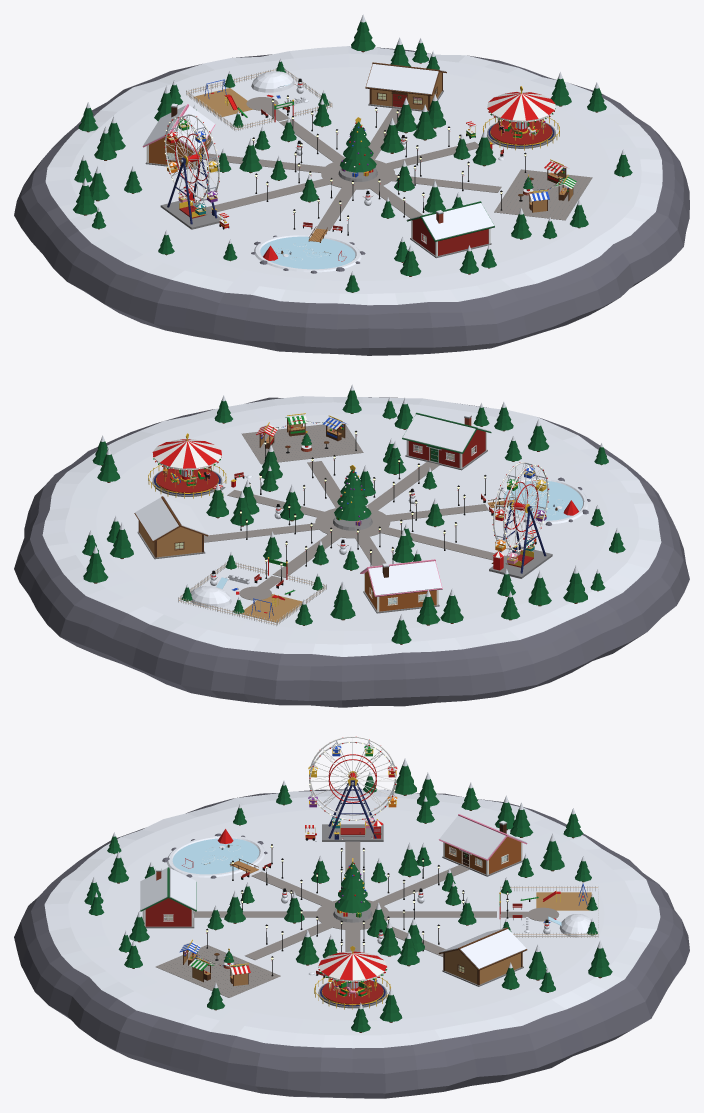
File: ChristmasIsland.fbx
3 views of the same model, one above another, from view 1: azimuth 30°, elevation 25°; view 2: azimuth 150°, elevation 25°; view 3: azimuth 270°, elevation 25° (orthographic).
Visible parts, largest first — view 1: Island_Terrain, Plaza_Paths, B2_FrozenLake_Base, B5_SnowPark_Base, B8_ChristmasMarket_Base, B7_Carousel_Rotor, B3_FerrisWheel_Wheel, B6_ReindeerStable_Roof, B1_SantasWorkshop_Roof, Plaza_BigChristmasTree, B3_FerrisWheel_Base, B1_SantasWorkshop_Walls (+5 smaller); view 2: Island_Terrain, Plaza_Paths, B8_ChristmasMarket_Base, B5_SnowPark_Base, B7_Carousel_Rotor, B2_FrozenLake_Base, B4_GingerbreadBakery_Roof, B3_FerrisWheel_Wheel, B1_SantasWorkshop_Roof, B6_ReindeerStable_Roof, Plaza_BigChristmasTree, B3_FerrisWheel_Base (+8 smaller); view 3: Island_Terrain, Plaza_Paths, B2_FrozenLake_Base, B8_ChristmasMarket_Base, B7_Carousel_Rotor, B5_SnowPark_Base, B3_FerrisWheel_Wheel, B6_ReindeerStable_Roof, B4_GingerbreadBakery_Roof, B1_SantasWorkshop_Roof, B3_FerrisWheel_Base, B4_GingerbreadBakery_Walls (+3 smaller).
Boxes of the visible parts, x1,y1,x2,y2 form: Island_Terrain: (14,46,689,355); Plaza_Paths: (203,108,501,230); B2_FrozenLake_Base: (251,226,365,273); B5_SnowPark_Base: (186,67,332,131); B8_ChristmasMarket_Base: (494,159,592,220); B7_Carousel_Rotor: (487,86,555,145); B3_FerrisWheel_Wheel: (164,114,220,202); B6_ReindeerStable_Roof: (365,62,446,95); B1_SantasWorkshop_Roof: (406,201,494,241); Plaza_BigChristmasTree: (338,117,377,181); B3_FerrisWheel_Base: (160,154,222,229); B1_SantasWorkshop_Walls: (410,218,491,258); Island_Terrain: (14,396,689,707); Plaza_Paths: (204,461,506,577); B8_ChristmasMarket_Base: (241,413,363,464); B5_SnowPark_Base: (178,557,326,626); B7_Carousel_Rotor: (152,433,221,493); B2_FrozenLake_Base: (488,476,590,525); B4_GingerbreadBakery_Roof: (360,559,442,596); B3_FerrisWheel_Wheel: (492,462,549,551); B1_SantasWorkshop_Roof: (402,412,491,453); B6_ReindeerStable_Roof: (134,496,208,542); Plaza_BigChristmasTree: (333,465,372,530); B3_FerrisWheel_Base: (489,502,552,578); Island_Terrain: (14,789,689,1098); Plaza_Paths: (194,841,496,960); B2_FrozenLake_Base: (162,829,267,878); B8_ChristmasMarket_Base: (155,939,280,997); B7_Carousel_Rotor: (318,946,387,1005); B5_SnowPark_Base: (499,883,598,937); B3_FerrisWheel_Wheel: (309,736,396,820); B6_ReindeerStable_Roof: (438,927,527,970); B4_GingerbreadBakery_Roof: (439,814,527,860); B1_SantasWorkshop_Roof: (140,867,196,911); B3_FerrisWheel_Base: (322,780,383,841); B4_GingerbreadBakery_Walls: (442,836,522,876).
Size of what is drawn, in the model's own units: 109 by 26.36 by 110.
